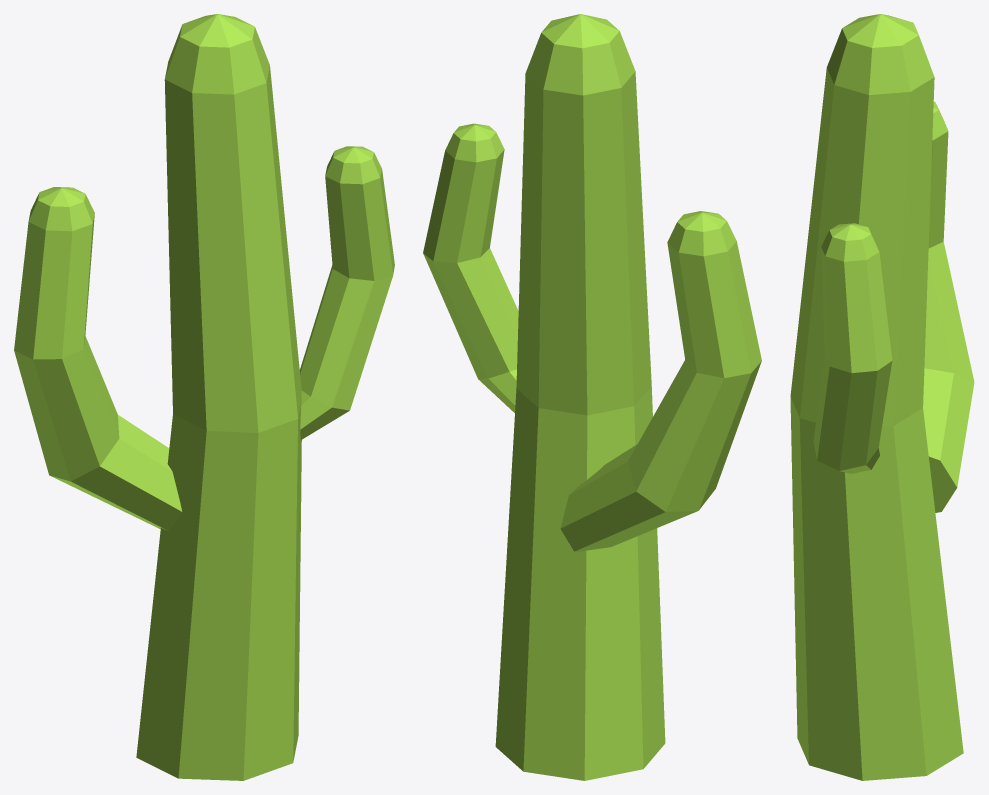
File: cactus.fbx
3 renders of one model, left to right at view 1: azimuth 30°, elevation 25°; view 2: azimuth 150°, elevation 25°; view 3: azimuth 270°, elevation 25°, orthographic.
Visible parts, largest first — view 1: cactus; view 2: cactus; view 3: cactus.
Part boxes in pixels (x1,y1,x2,y2): cactus: (14, 14, 394, 780); cactus: (423, 14, 761, 780); cactus: (790, 14, 974, 780).
Bounding box in the file's own units: 46.18 × 92.2 × 21.03.
